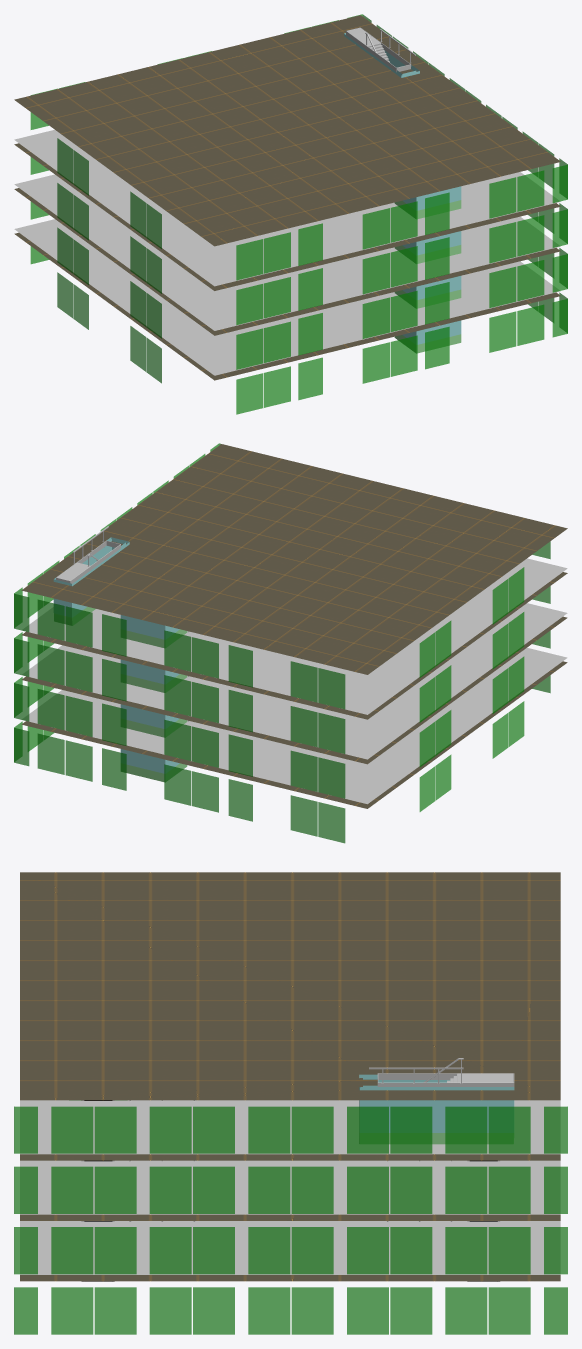
File: SM_Building12_Interior04.fbx
3 views of the same model, one above another, from view 1: azimuth 30°, elevation 25°; view 2: azimuth 150°, elevation 25°; view 3: azimuth 270°, elevation 25° (orthographic). The views are drawn at different scales.
Parts seen in each view (by area): view 1: SM_Building12_Interior04; view 2: SM_Building12_Interior04; view 3: SM_Building12_Interior04.
Part boxes in pixels (bbox=[...]): SM_Building12_Interior04: bbox=[14, 14, 567, 414]; SM_Building12_Interior04: bbox=[14, 443, 567, 843]; SM_Building12_Interior04: bbox=[14, 872, 567, 1334].
Size of the model in its own units: 3373 by 1725 by 3373.
